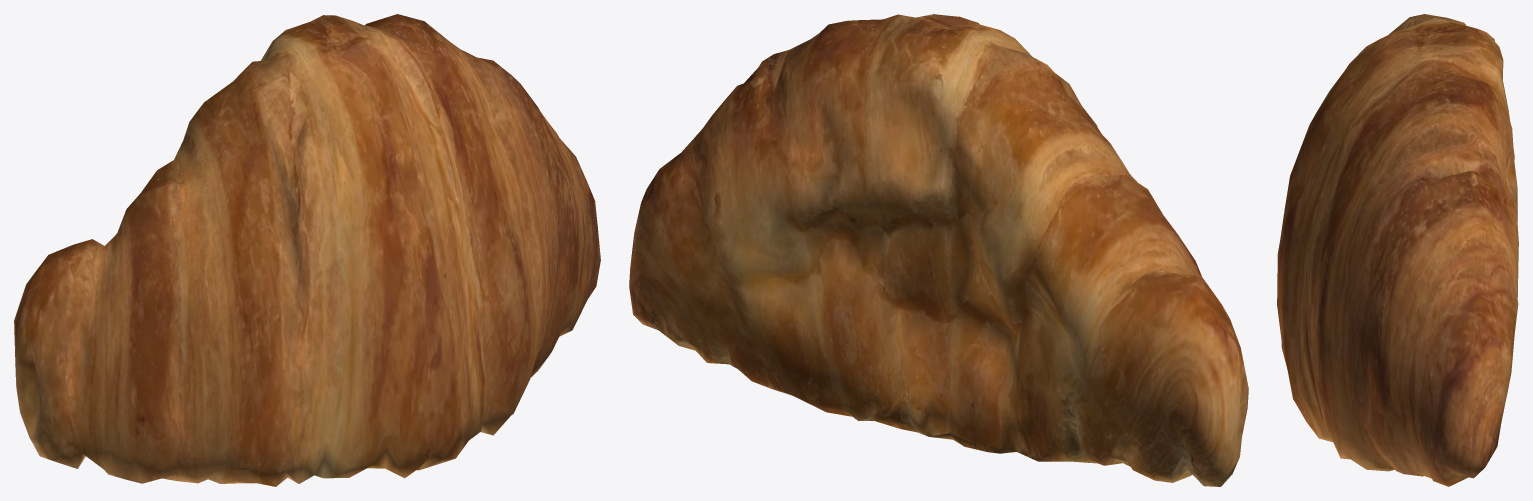
File: croissant.glb
The picture shows the model from 3 angles, left to right: view 1: azimuth 30°, elevation 25°; view 2: azimuth 150°, elevation 25°; view 3: azimuth 270°, elevation 25°; orthographic projection. The views are drawn at different scales.
Visible parts, largest first — view 1: croissant.002; view 2: croissant.002; view 3: croissant.002.
Part boxes in pixels (<box>): croissant.002: <box>14,14,600,486</box>; croissant.002: <box>629,14,1248,486</box>; croissant.002: <box>1277,14,1518,486</box>.
Bounding box in the file's own units: 4.63 × 3.05 × 1.75.
Materials: 1 (1 with a texture image).
